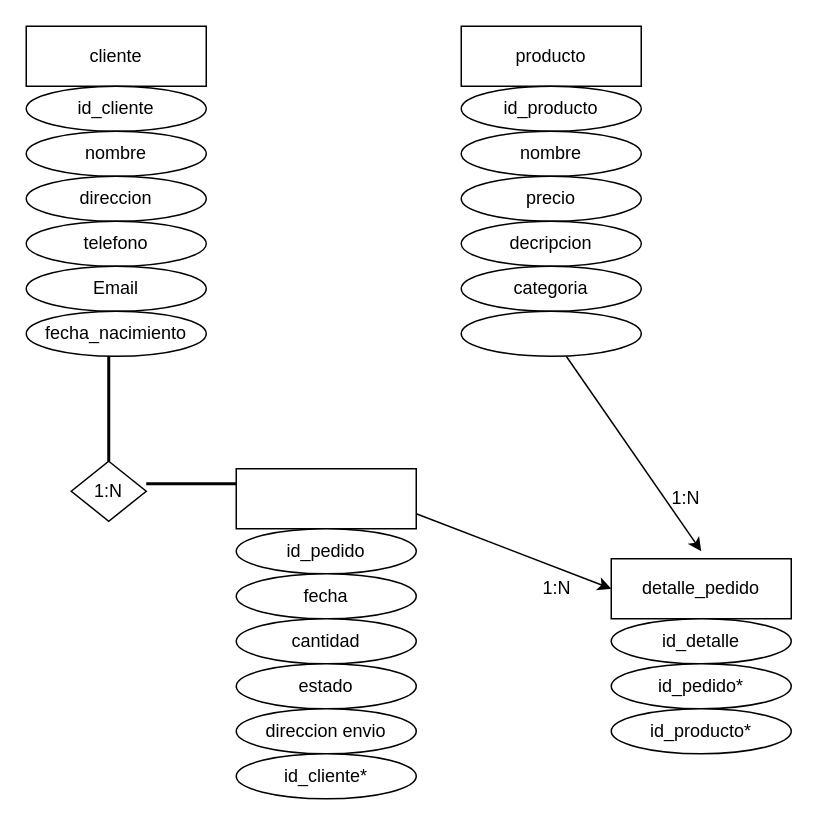
Image size: 818x825. Some labels were removed from this diagram. Here are the shapes that lost their labels. From the top down, the centre of each, then its label:
the point at 550,333: stock
the point at 325,498: pedido
